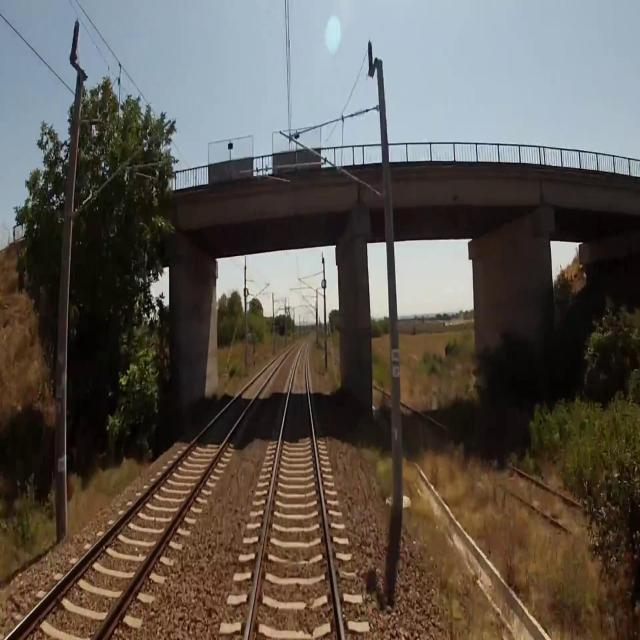rail-track: (9, 355, 282, 639), (402, 407, 640, 571), (248, 344, 340, 639)
